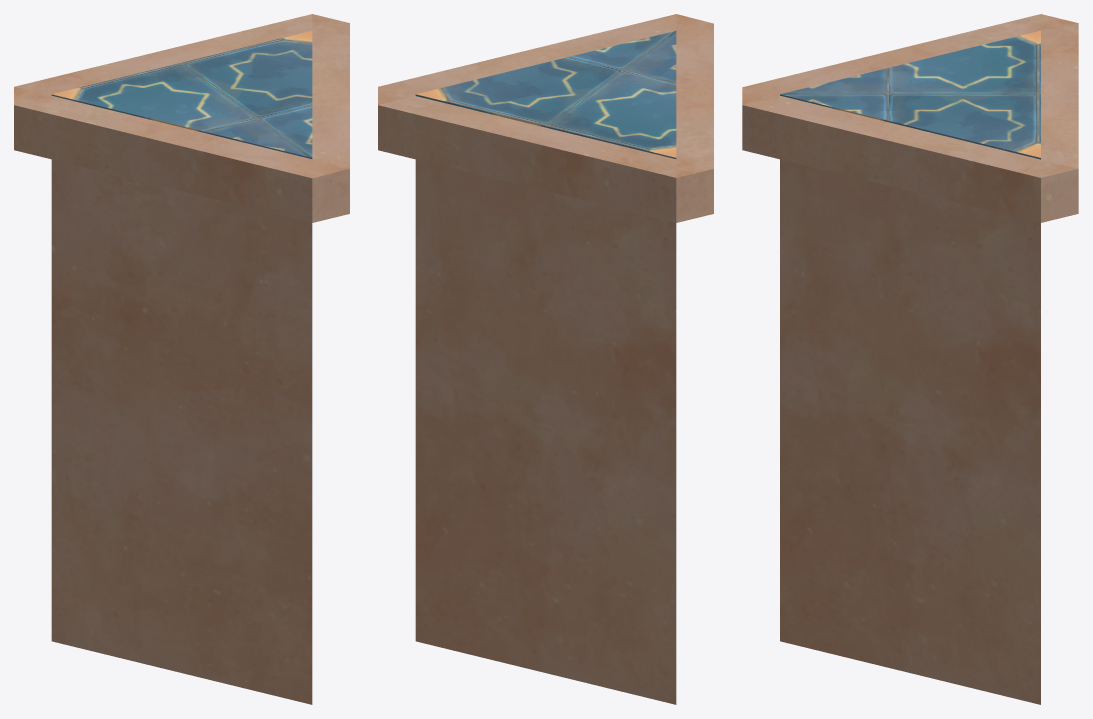
3 renders of one model, left to right at view 1: azimuth 30°, elevation 25°; view 2: azimuth 150°, elevation 25°; view 3: azimuth 270°, elevation 25°, orthographic.
Parts seen in each view (by area): view 1: SM_BB_T4_Foundation_Triangle_Med_01_LOD0; view 2: SM_BB_T4_Foundation_Triangle_Med_01_LOD0; view 3: SM_BB_T4_Foundation_Triangle_Med_01_LOD0.
Boxes of the visible parts, x1,y1,x2,y2 form: SM_BB_T4_Foundation_Triangle_Med_01_LOD0: (14,14,349,704); SM_BB_T4_Foundation_Triangle_Med_01_LOD0: (378,14,713,704); SM_BB_T4_Foundation_Triangle_Med_01_LOD0: (742,14,1078,704).
Size of the model in its own units: 1.93 by 3.01 by 1.67.
Materials: 2 (2 with a texture image).
